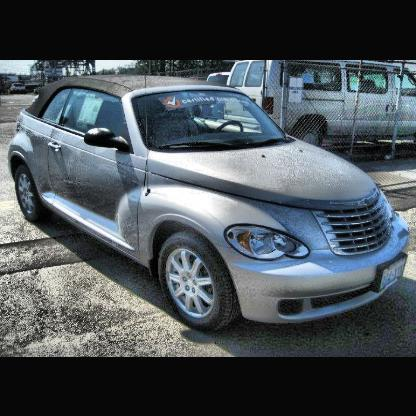Chrysler PT Cruiser Convertible 2008: (10, 76, 410, 335)
